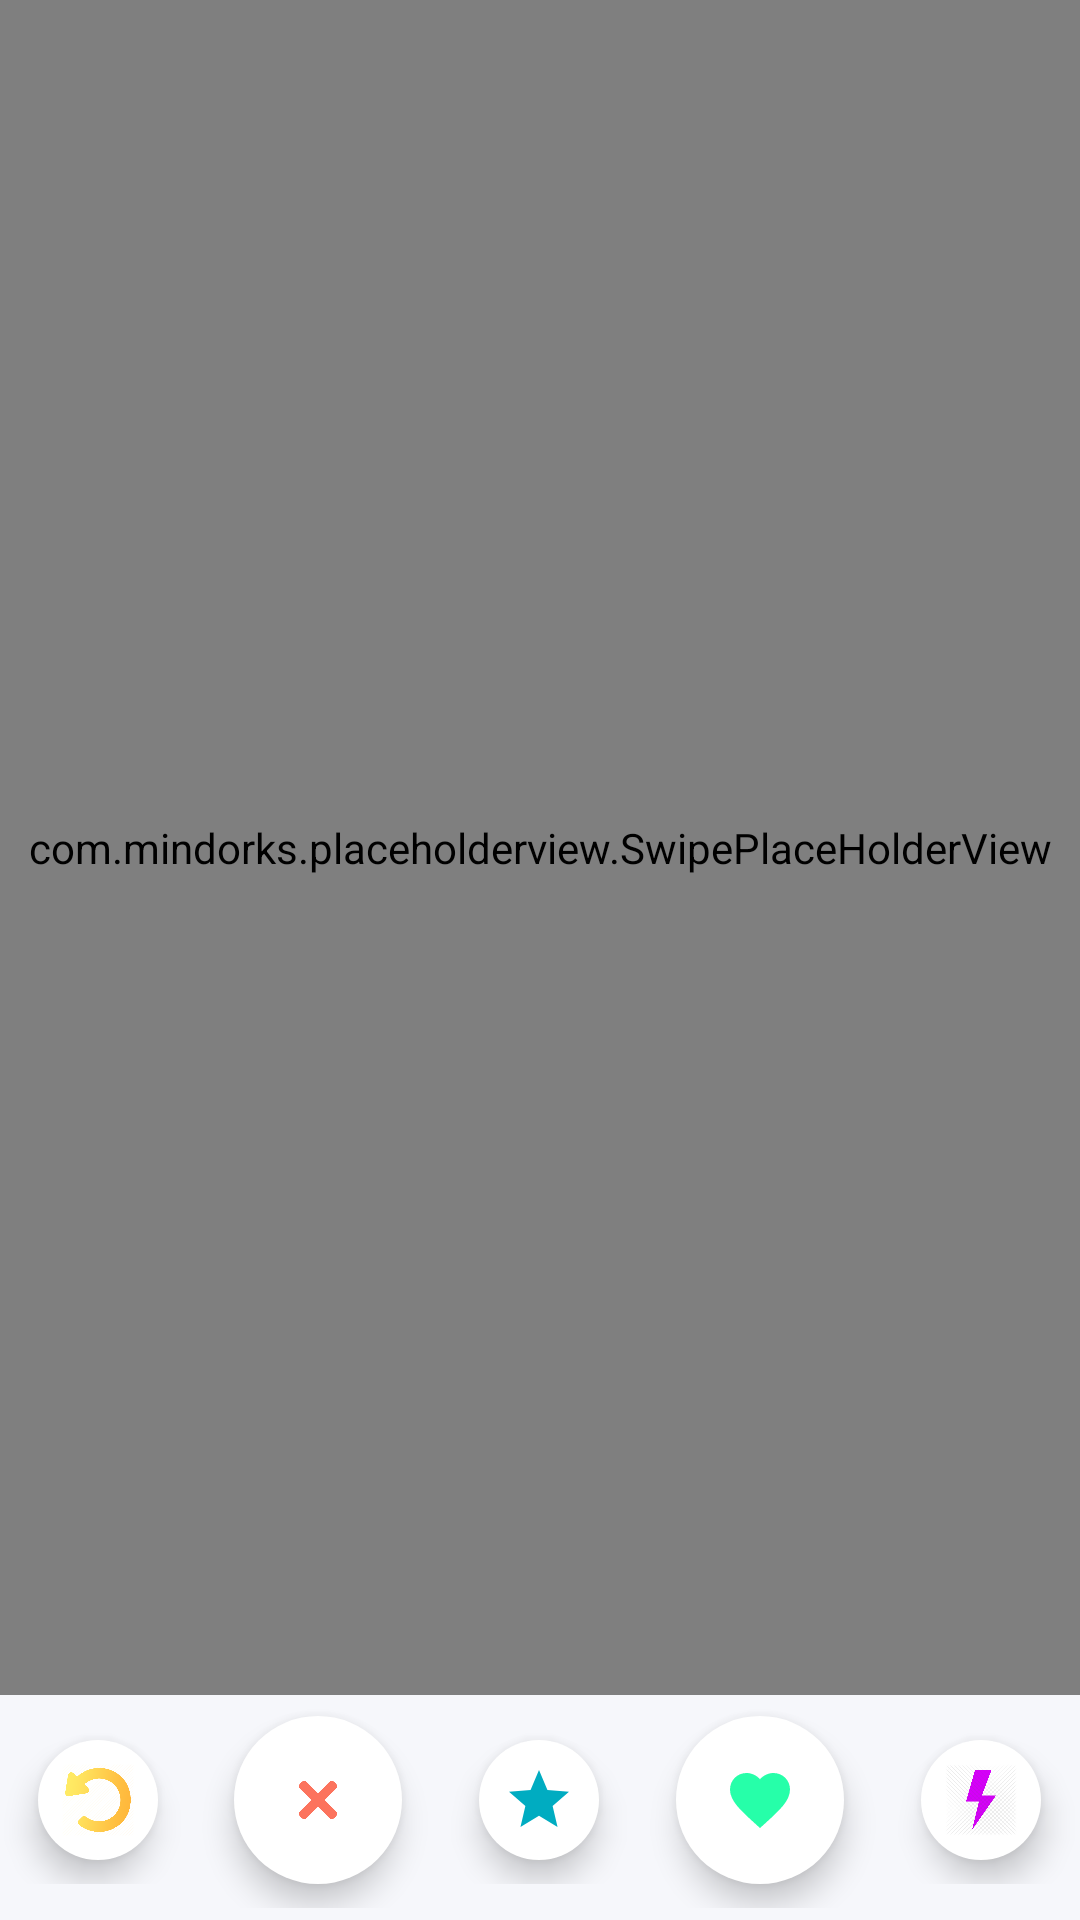

Screen size 1080*1920. Icon name, then its box in pixels as (x1, y1, x2, y2):
bolt: (921, 1740, 1041, 1860)
like: (676, 1716, 844, 1884)
reverse: (38, 1740, 158, 1860)
skip: (234, 1716, 402, 1884)
star turquoise: (479, 1740, 599, 1860)
